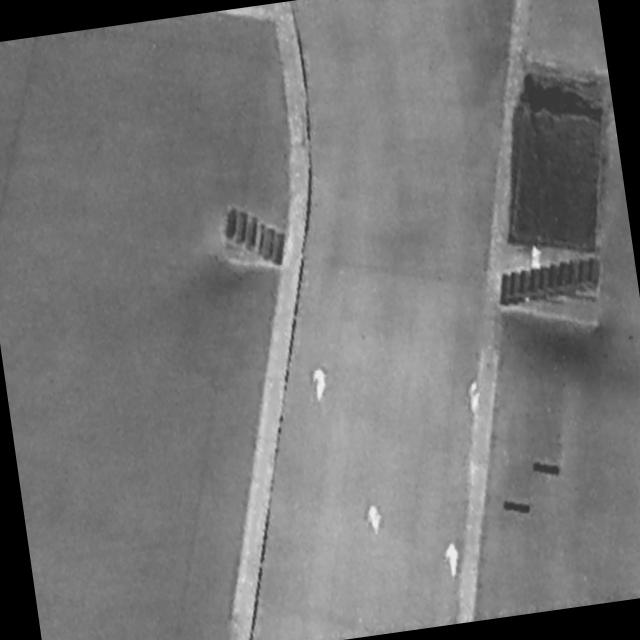person: (441, 538, 466, 581), (465, 377, 487, 420), (308, 362, 331, 403), (365, 500, 388, 540), (529, 242, 546, 273)
